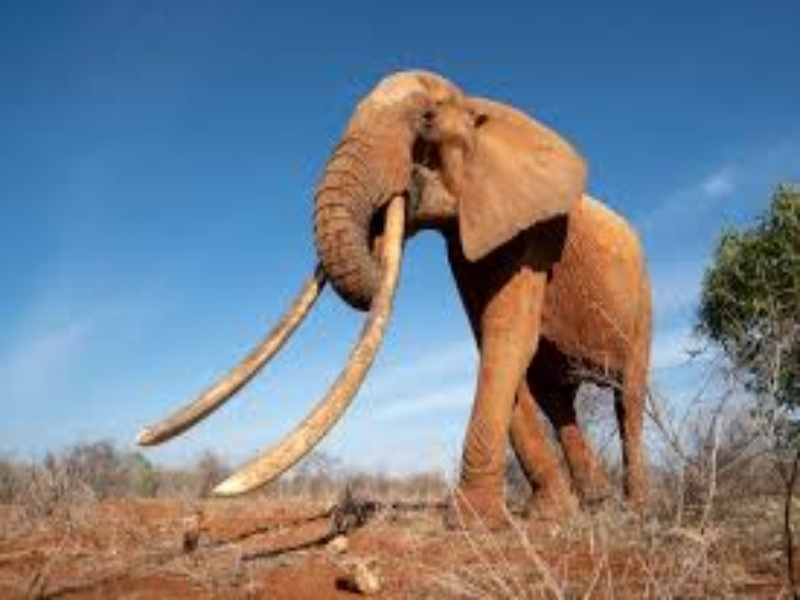elephant: (128, 36, 692, 543)
